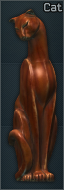Cat figurine: (0, 0, 64, 190)
